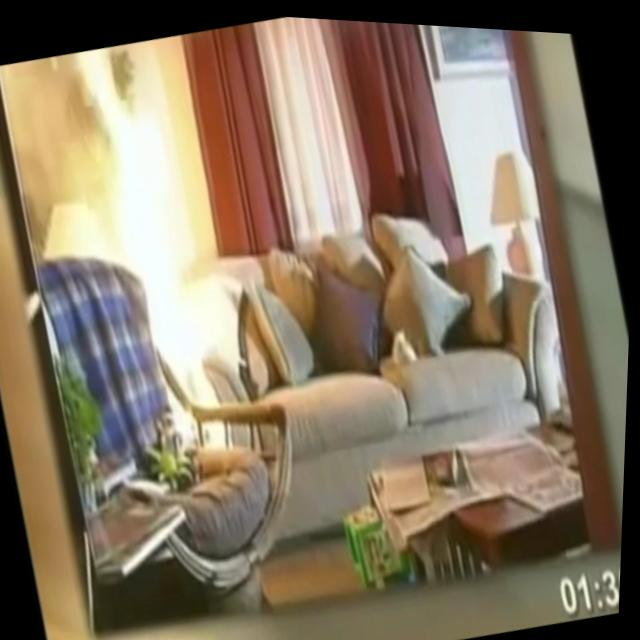fire: (73, 49, 255, 466)
